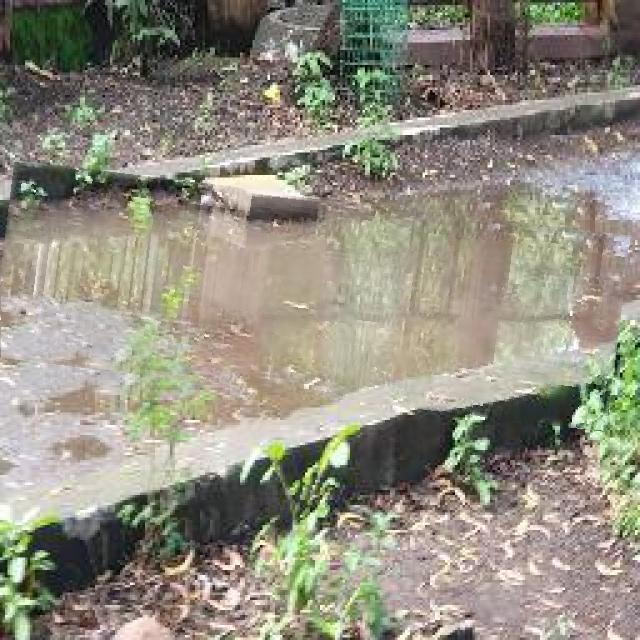puddle: (1, 180, 627, 415)
